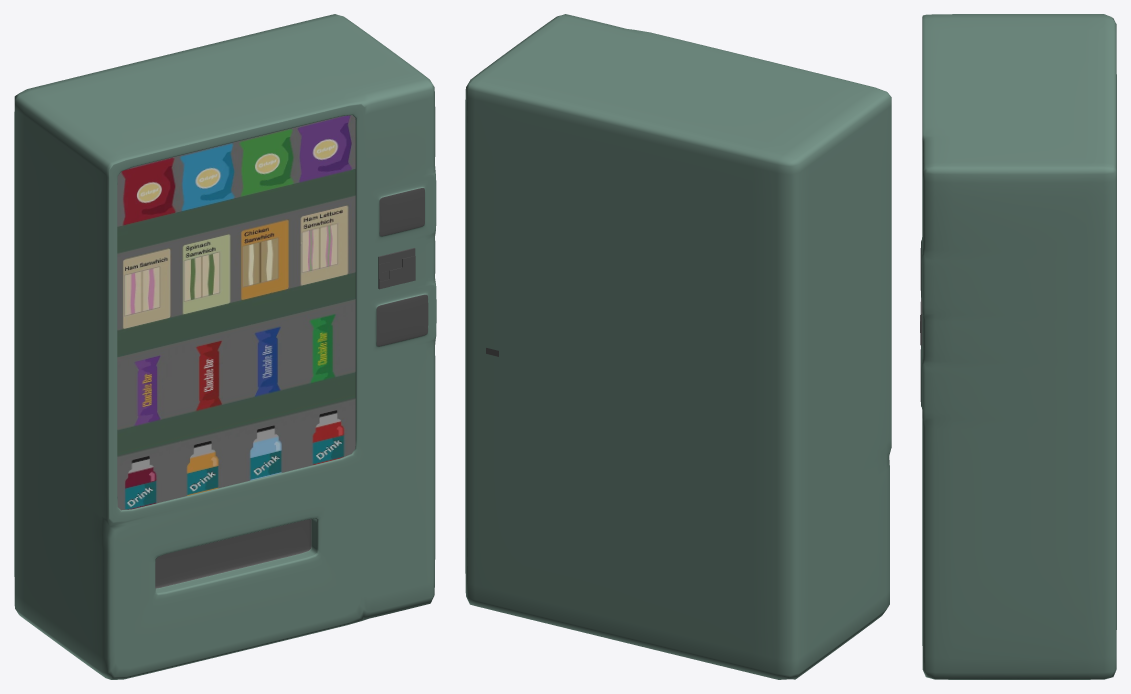
Rendered from vending_machine.fbx.
3 renders of one model, left to right at view 1: azimuth 30°, elevation 25°; view 2: azimuth 150°, elevation 25°; view 3: azimuth 270°, elevation 25°, orthographic. The views are drawn at different scales.
Parts seen in each view (by area): view 1: pCube253; view 2: pCube253; view 3: pCube253.
Boxes of the visible parts, box(x1,y1,x2,y2) form: pCube253: box(14, 14, 436, 679); pCube253: box(465, 14, 891, 679); pCube253: box(920, 14, 1116, 679).
Bounding box in the file's own units: 43.71 × 65.75 × 22.81.
Materials: 3 (1 with a texture image).
